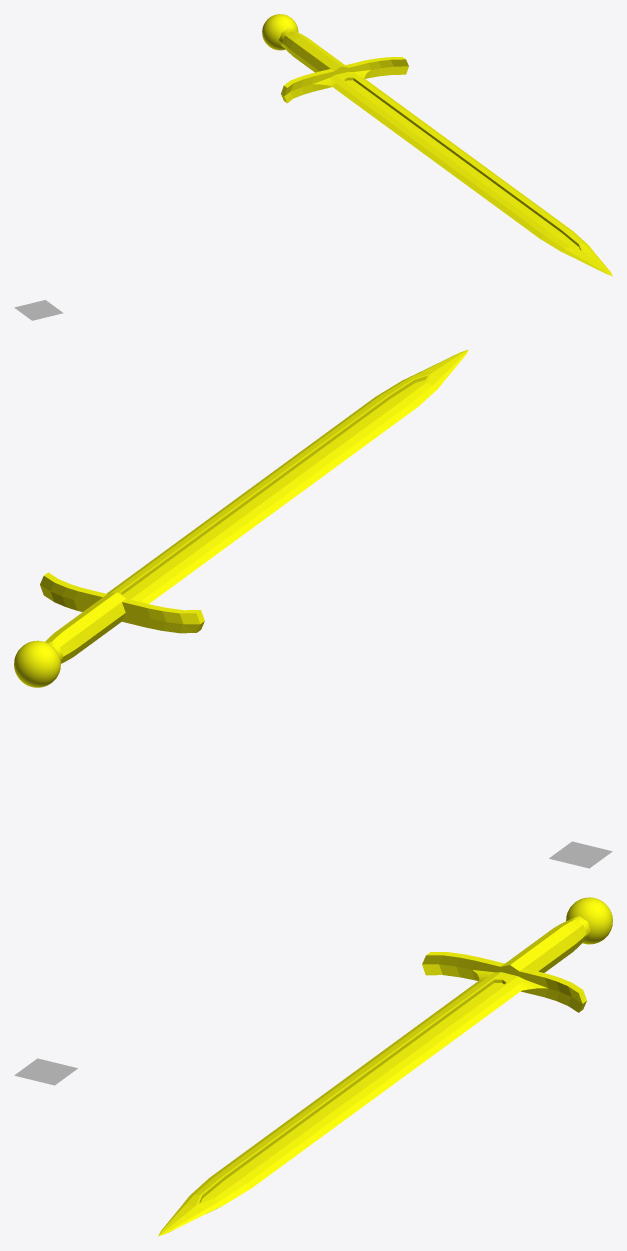
File: Sword.glb
3 views of the same model, one above another, from view 1: azimuth 30°, elevation 25°; view 2: azimuth 150°, elevation 25°; view 3: azimuth 330°, elevation 25° (orthographic). The views are drawn at different scales.
Visible parts, largest first — view 1: Cylinder001, Object002, Object001, Sphere001, Plane001; view 2: Cylinder001, Object002, Object001, Sphere001, Plane001; view 3: Cylinder001, Object002, Object001, Sphere001, Plane001.
Part boxes in pixels (<box>): Cylinder001: <box>313,65,612,276</box>; Object002: <box>281,57,408,103</box>; Object001: <box>279,28,344,72</box>; Sphere001: <box>262,14,298,50</box>; Plane001: <box>14,300,63,320</box>; Cylinder001: <box>106,349,468,620</box>; Object002: <box>40,572,204,633</box>; Object001: <box>45,595,125,663</box>; Sphere001: <box>14,640,60,687</box>; Plane001: <box>549,841,612,868</box>; Cylinder001: <box>158,961,547,1236</box>; Object002: <box>422,952,586,1012</box>; Object001: <box>506,916,590,972</box>; Sphere001: <box>566,897,612,944</box>; Plane001: <box>14,1058,77,1085</box>.
Size of the model in its own units: 1.29 by 0.45 by 1.88.
4 materials, 3 textured.
